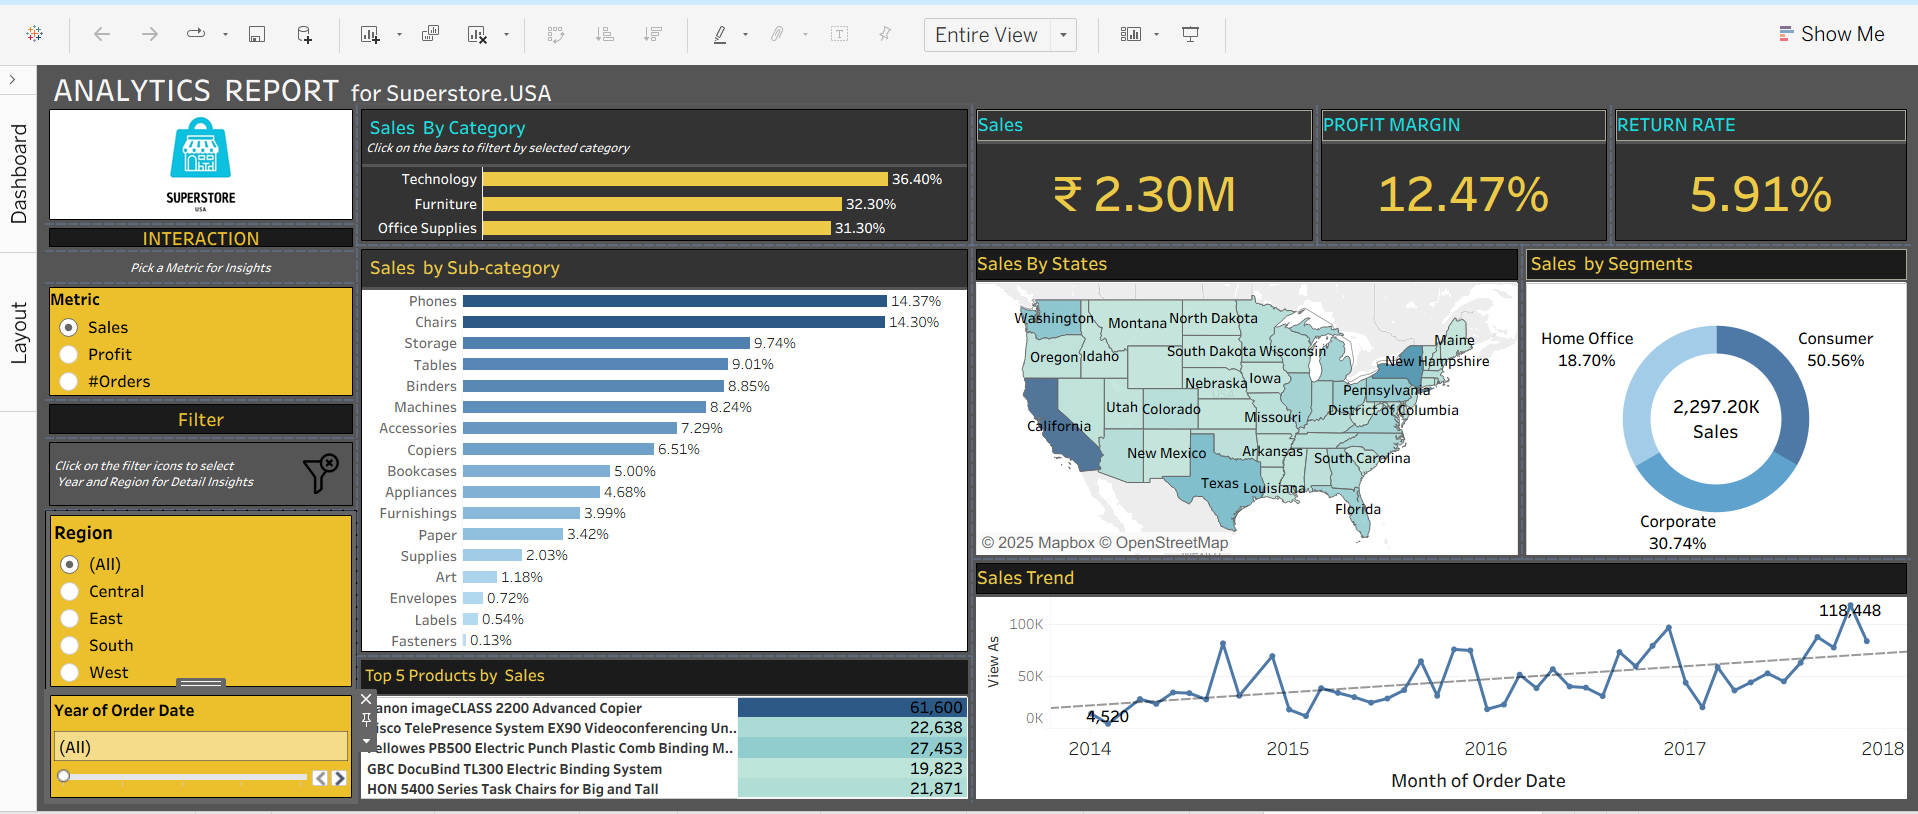

The dashboard page shown, as its layout file describes it:
{"tool":"tableau","page":{"name":"Analytics Report Dashboard","canvas":[1000,1000],"units":"permille","ordinal":0},"visuals":[{"type":"title","box":[4.2,10.7,991.5,42.9]},{"type":"image","param":"Image/logo.jpg","box":[4.2,53.6,165.9,159.5]},{"type":"worksheet","title":"Category","mark":"Automatic","rows":["Category"],"cols":["Calculation_1113796542397022208"],"box":[170.2,53.6,326.6,187.1]},{"type":"worksheet","title":"Metric","mark":"Automatic","box":[496.8,53.6,183.3,187.1]},{"type":"worksheet","title":"PROFIT MARGIN","mark":"Automatic","box":[680.1,53.6,156.2,187.1]},{"type":"worksheet","title":"RETURN RATE","mark":"Automatic","box":[836.3,53.6,159.4,187.1]},{"type":"text","box":[4.2,213.1,165.9,36.2]},{"type":"worksheet","title":"Sub-Category ","mark":"Automatic","rows":["Sub-Category"],"cols":["Calculation_1113796542397022208"],"box":[170.2,240.7,326.6,551.1]},{"type":"worksheet","title":"States Map","mark":"Multipolygon","box":[496.8,240.7,292.5,421.7]},{"type":"worksheet","title":"Segments","mark":"Pie","rows":["Calculation_1113796542415077380","Calculation_1113796542415097862"],"box":[789.3,240.7,206.5,421.7]},{"type":"text","box":[4.2,249.3,165.9,42.9]},{"type":"parameter","param":"[Parameters].[Parameter 1]","box":[4.2,292.2,165.9,156.8]},{"type":"text","box":[4.2,449,165.9,50.9]},{"type":"text","box":[4.2,500,165.9,96.5]},{"type":"dashboard-object","box":[136.6,520.1,28.9,55]},{"type":"filter","title":"Metric","param":"[federated.0nry9rt0ompcz417mgbet163ccz9].[none:Region:nk]","box":[4.8,597.8,164.8,241.3]},{"type":"worksheet","title":" Trend","mark":"Line","rows":["Calculation_1113796542397022208"],"cols":["Order Date"],"box":[496.8,662.4,499,326.8]},{"type":"worksheet","title":"TOP 5 Product","mark":"Square","rows":["Product Name"],"box":[170.2,791.8,326.6,197.5]},{"type":"filter","title":"Metric","param":"[federated.0nry9rt0ompcz417mgbet163ccz9].[yr:Order Date:ok]","box":[4.8,839.1,164.8,148.8]}]}

Visuals, with their boxes on the dashboard's canvas, which has no fixed pixel size, in thousandths of its width and height (x1, y1, x2, y2). These are canvas units, not pixel positions in the 1918x814 screenshot, which may show the page scaled, cropped or inside an application window:
title: Rect(4, 11, 996, 54)
image: Rect(4, 54, 170, 213)
"Category" worksheet: Rect(170, 54, 497, 241)
"Metric" worksheet: Rect(497, 54, 680, 241)
"PROFIT MARGIN" worksheet: Rect(680, 54, 836, 241)
"RETURN RATE" worksheet: Rect(836, 54, 996, 241)
text: Rect(4, 213, 170, 249)
"Sub-Category " worksheet: Rect(170, 241, 497, 792)
"States Map" worksheet (Multipolygon marks): Rect(497, 241, 789, 662)
"Segments" worksheet (Pie marks): Rect(789, 241, 996, 662)
text: Rect(4, 249, 170, 292)
parameter: Rect(4, 292, 170, 449)
text: Rect(4, 449, 170, 500)
text: Rect(4, 500, 170, 596)
dashboard-object: Rect(137, 520, 166, 575)
"Metric" filter: Rect(5, 598, 170, 839)
" Trend" worksheet (Line marks): Rect(497, 662, 996, 989)
"TOP 5 Product" worksheet (Square marks): Rect(170, 792, 497, 989)
"Metric" filter: Rect(5, 839, 170, 988)
